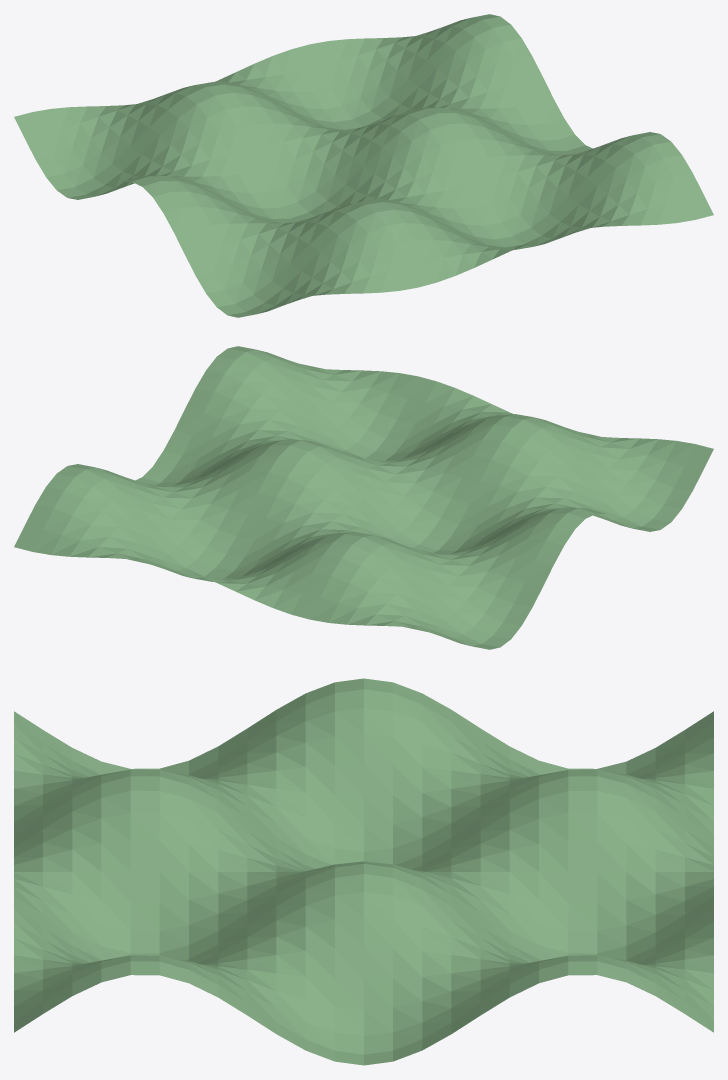
File: vista-terrain.glb
3 views of the same model, one above another, from view 1: azimuth 30°, elevation 25°; view 2: azimuth 150°, elevation 25°; view 3: azimuth 270°, elevation 25° (orthographic). The views are drawn at different scales.
Size of the model in its own units: 20 by 2.99 by 20.
